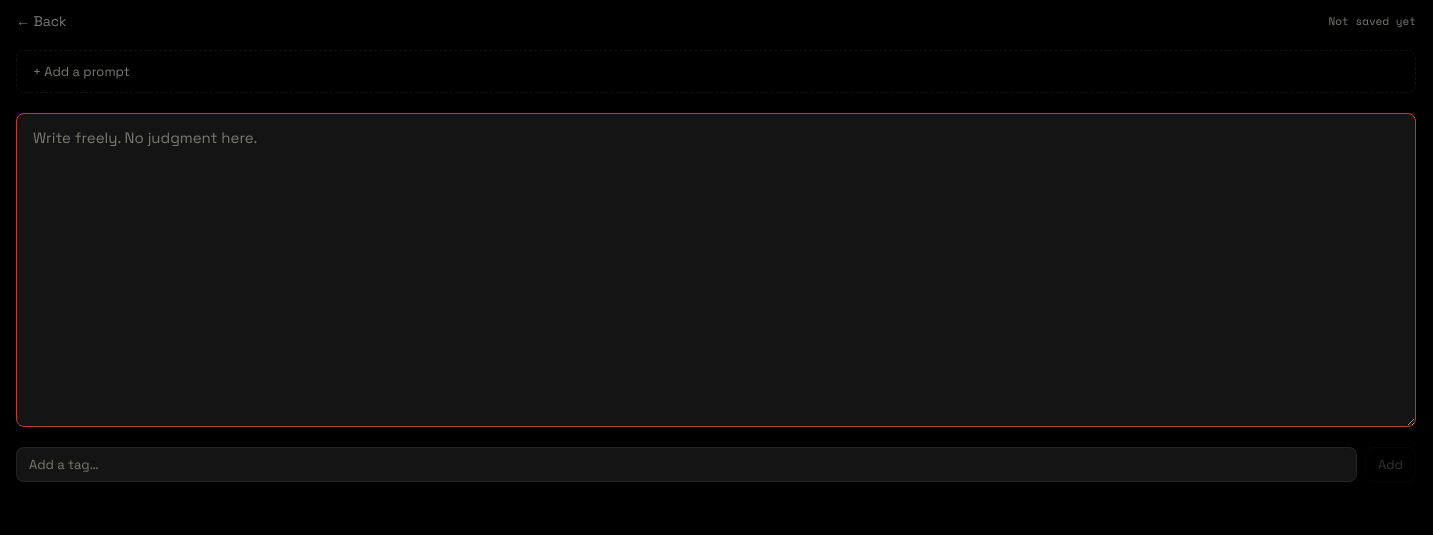
JournalEntry — new entry mode › adds a tag when the Add button is clicked
Type "shadow" into the field named "tag input" at [687, 464], box [16,447,1357,482]
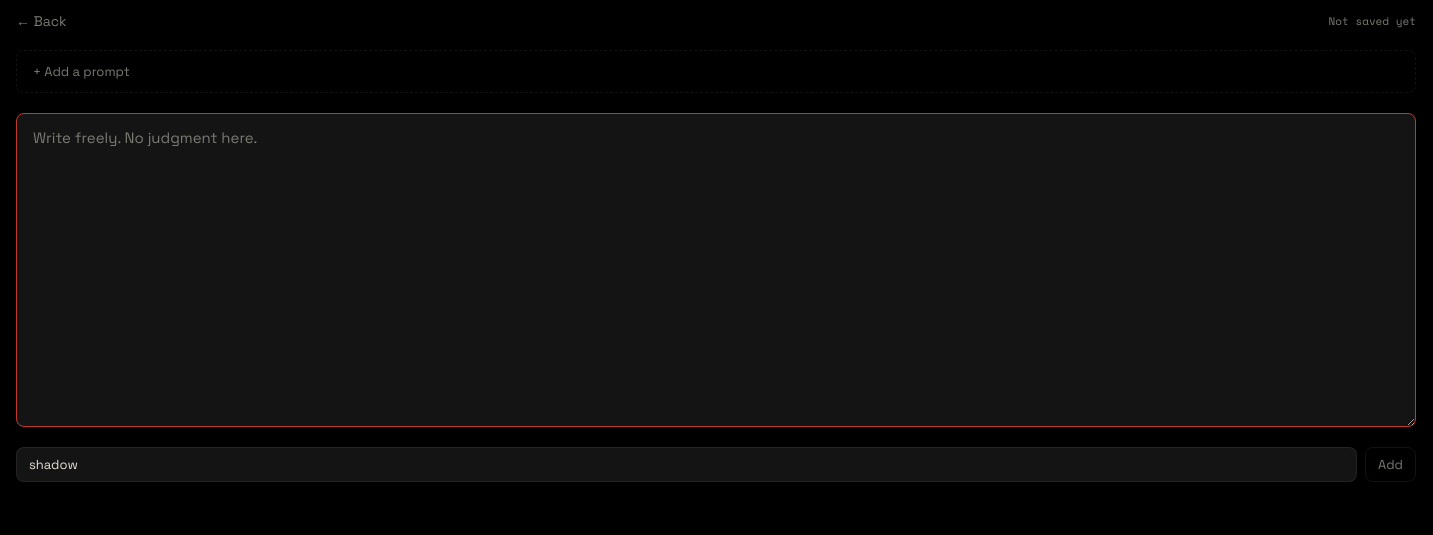
Click the button with aria-label "add tag" at [1391, 464], box [1365,447,1416,482]
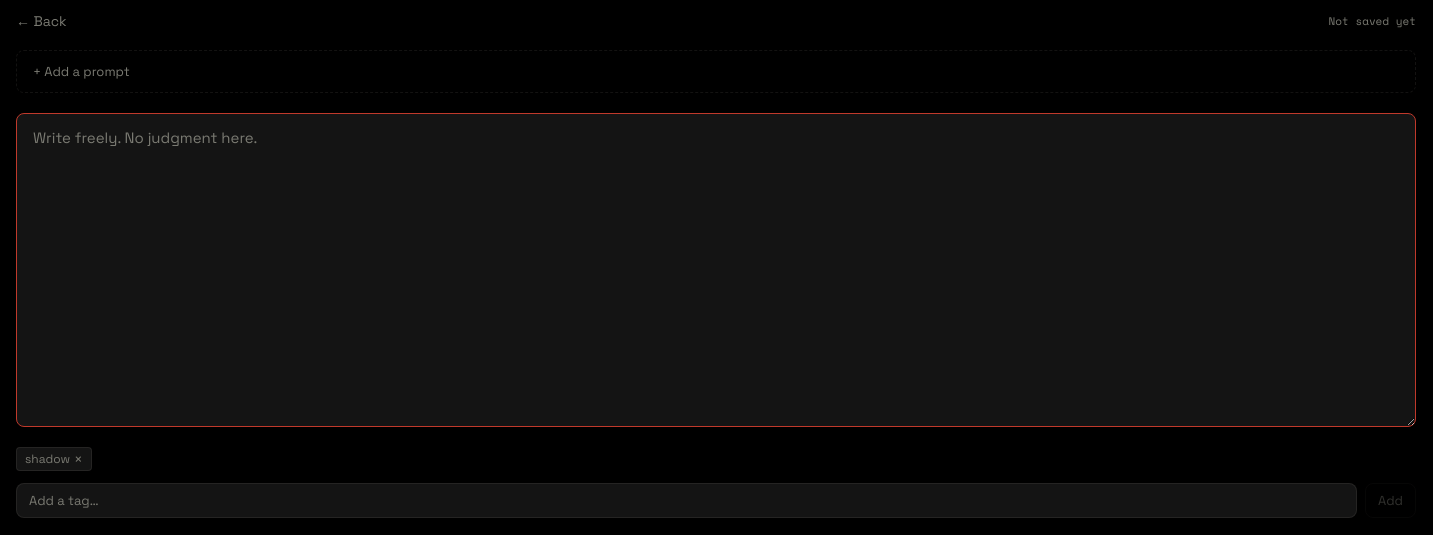
Result: the text "shadow" is shown at [25,451,70,467]
